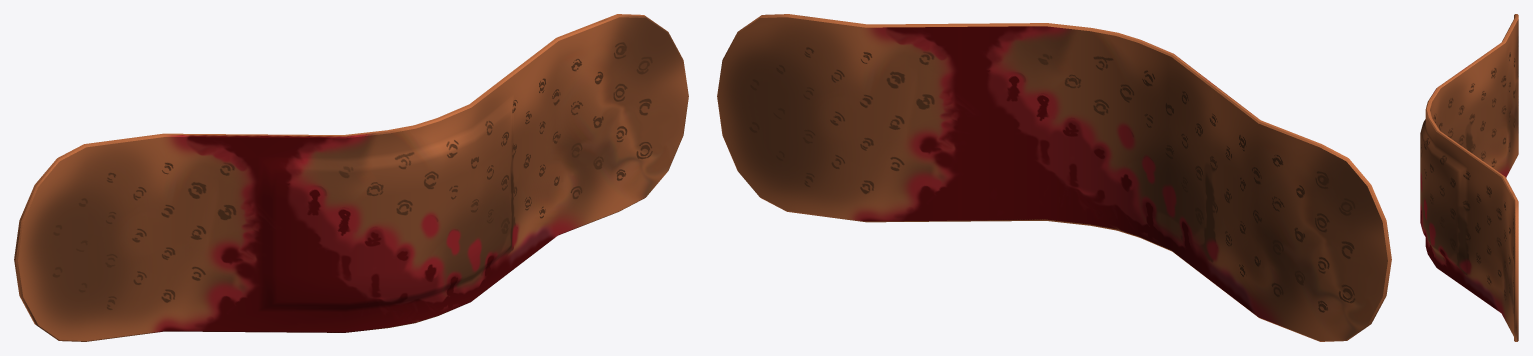
3 views of the same model, side by side, from view 1: azimuth 30°, elevation 25°; view 2: azimuth 150°, elevation 25°; view 3: azimuth 270°, elevation 25° (orthographic). The views are drawn at different scales.
Parts seen in each view (by area): view 1: Circle_2; view 2: Circle_2; view 3: Circle_2.
Part boxes in pixels (x1,y1,x2,y2): Circle_2: (14,14,688,341); Circle_2: (717,14,1391,341); Circle_2: (1420,14,1518,341).
Bounding box in the file's own units: 6.18 × 1.73 × 1.11.
1 material, 1 textured.
